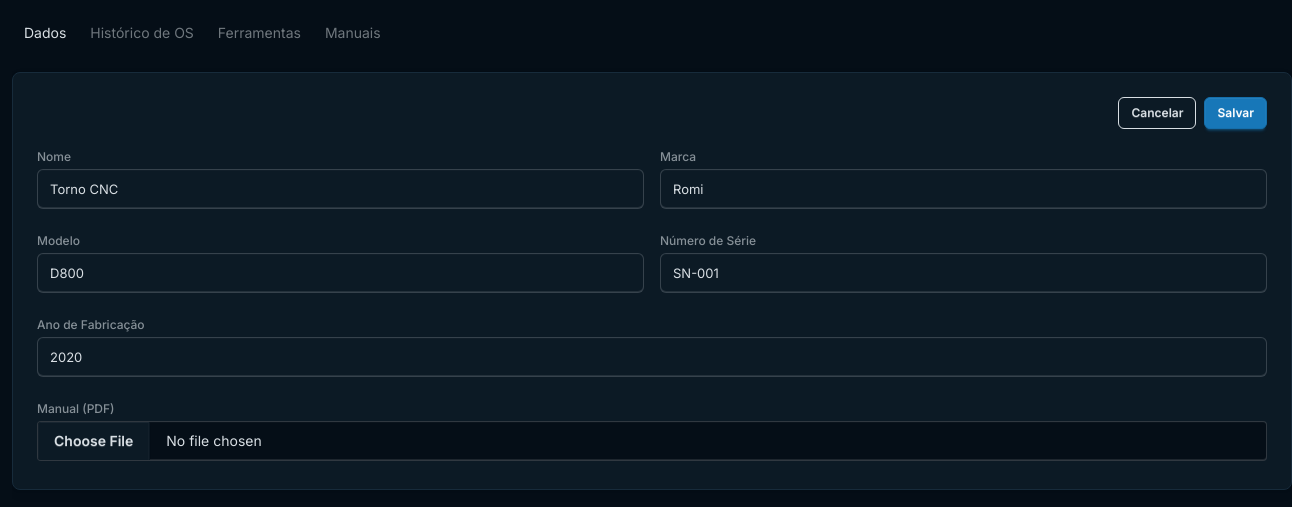
MachineFormPage — Ferramentas tab › shows "Nenhuma ferramenta associada" when machineTools is empty
Click the tab "Ferramentas" at (259, 32), box [206, 12, 313, 52]
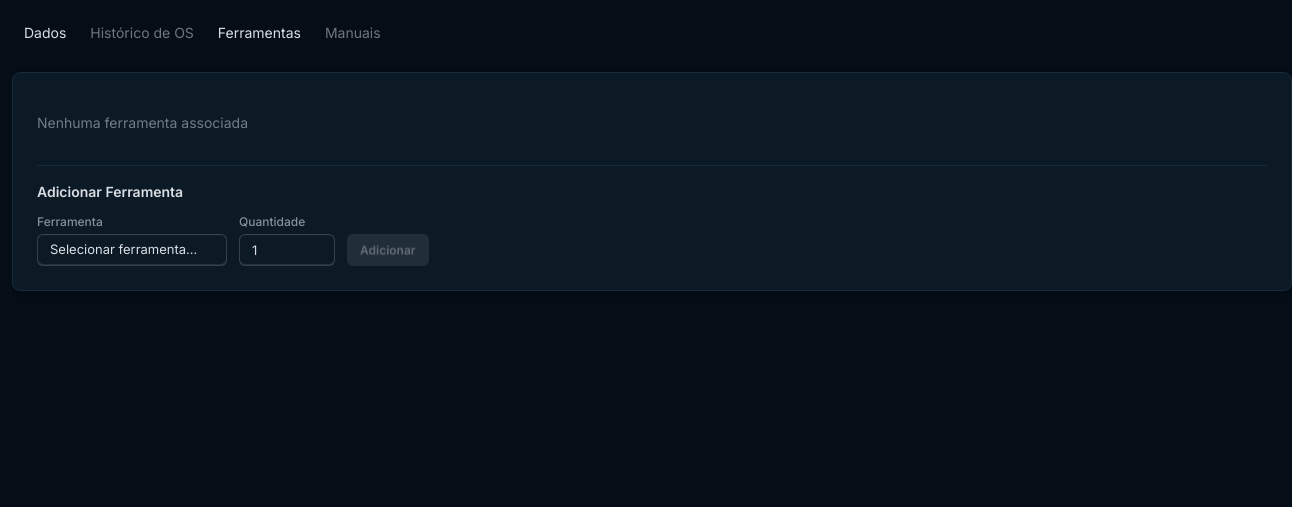
Expected: the text "Nenhuma ferramenta associada" is shown, [37, 114, 248, 131]
